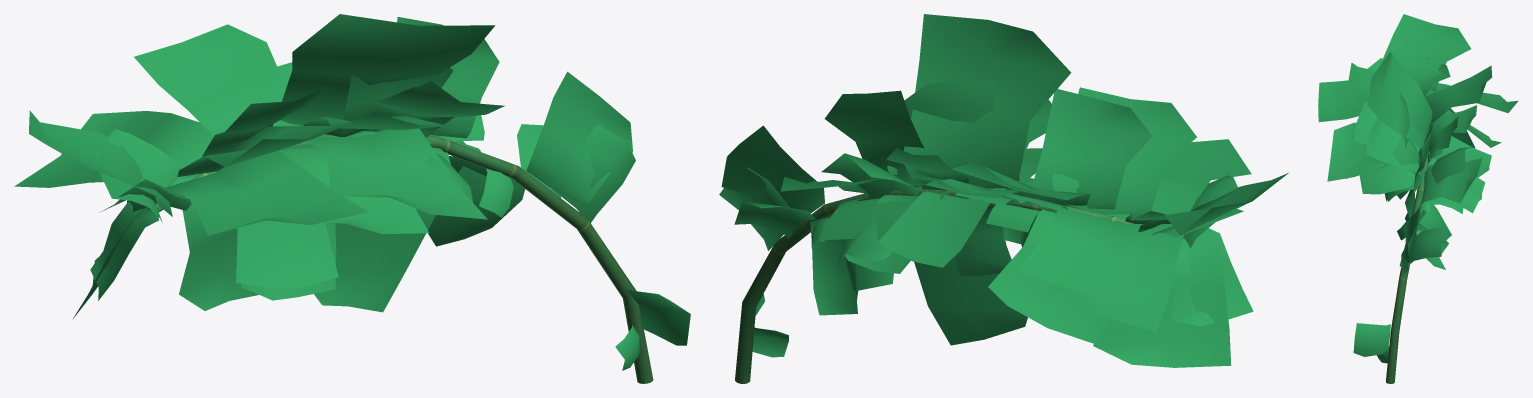
The model's file is bambu quase deitado.fbx.
3 views of the same model, side by side, from view 1: azimuth 30°, elevation 25°; view 2: azimuth 150°, elevation 25°; view 3: azimuth 270°, elevation 25° (orthographic). The views are drawn at different scales.
Parts seen in each view (by area): view 1: Cylinder.001; view 2: Cylinder.001; view 3: Cylinder.001.
Part boxes in pixels (x1,y1,x2,y2): Cylinder.001: (14,14,690,383); Cylinder.001: (719,14,1289,383); Cylinder.001: (1318,14,1518,383).
Bounding box in the file's own units: 596 × 418 × 307.
